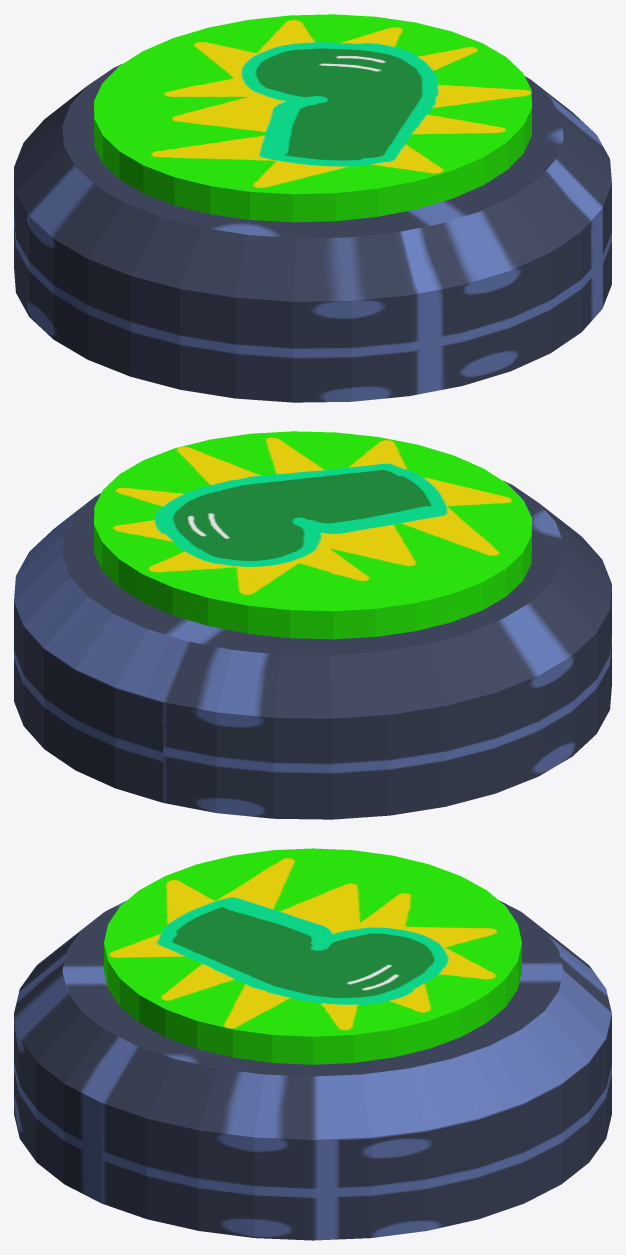
The model's file is green button.fbx.
3 renders of one model, top to bottom at view 1: azimuth 30°, elevation 25°; view 2: azimuth 150°, elevation 25°; view 3: azimuth 270°, elevation 25°, orthographic.
Parts seen in each view (by area): view 1: Cylinder.002; view 2: Cylinder.002; view 3: Cylinder.002.
Boxes of the visible parts, x1,y1,x2,y2 form: Cylinder.002: [14, 14, 611, 402]; Cylinder.002: [14, 431, 611, 819]; Cylinder.002: [14, 848, 611, 1240].
Size of the model in its own units: 64.75 by 20.5 by 64.75.
